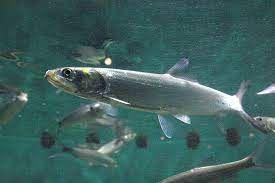Tenpounder: (41, 57, 255, 136), (48, 141, 131, 174), (242, 107, 275, 138)
